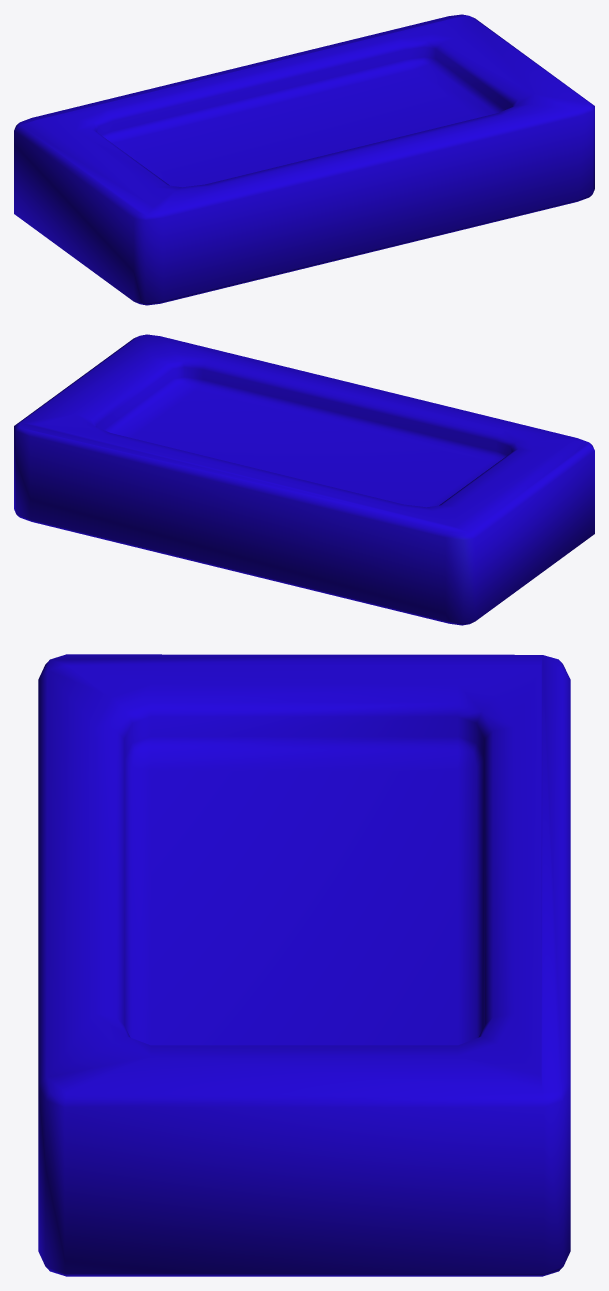
The model's file is mydlo.fbx.
3 renders of one model, top to bottom at view 1: azimuth 30°, elevation 25°; view 2: azimuth 150°, elevation 25°; view 3: azimuth 270°, elevation 25°, orthographic. The views are drawn at different scales.
Parts seen in each view (by area): view 1: Soap; view 2: Soap; view 3: Soap.
Part boxes in pixels (x1,y1,x2,y2): Soap: (14,14,594,305); Soap: (14,334,594,625); Soap: (38,654,570,1276).
Size of the model in its own units: 10.85 by 2.1 by 5.42.
